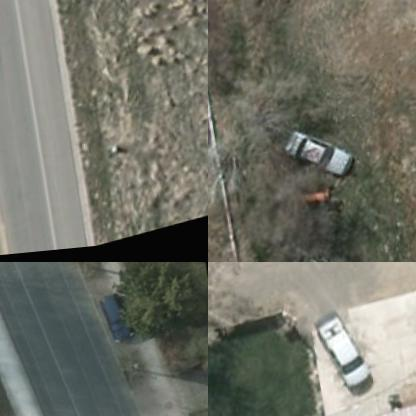car: (312, 306, 378, 402), (276, 122, 356, 199), (95, 295, 136, 358)
